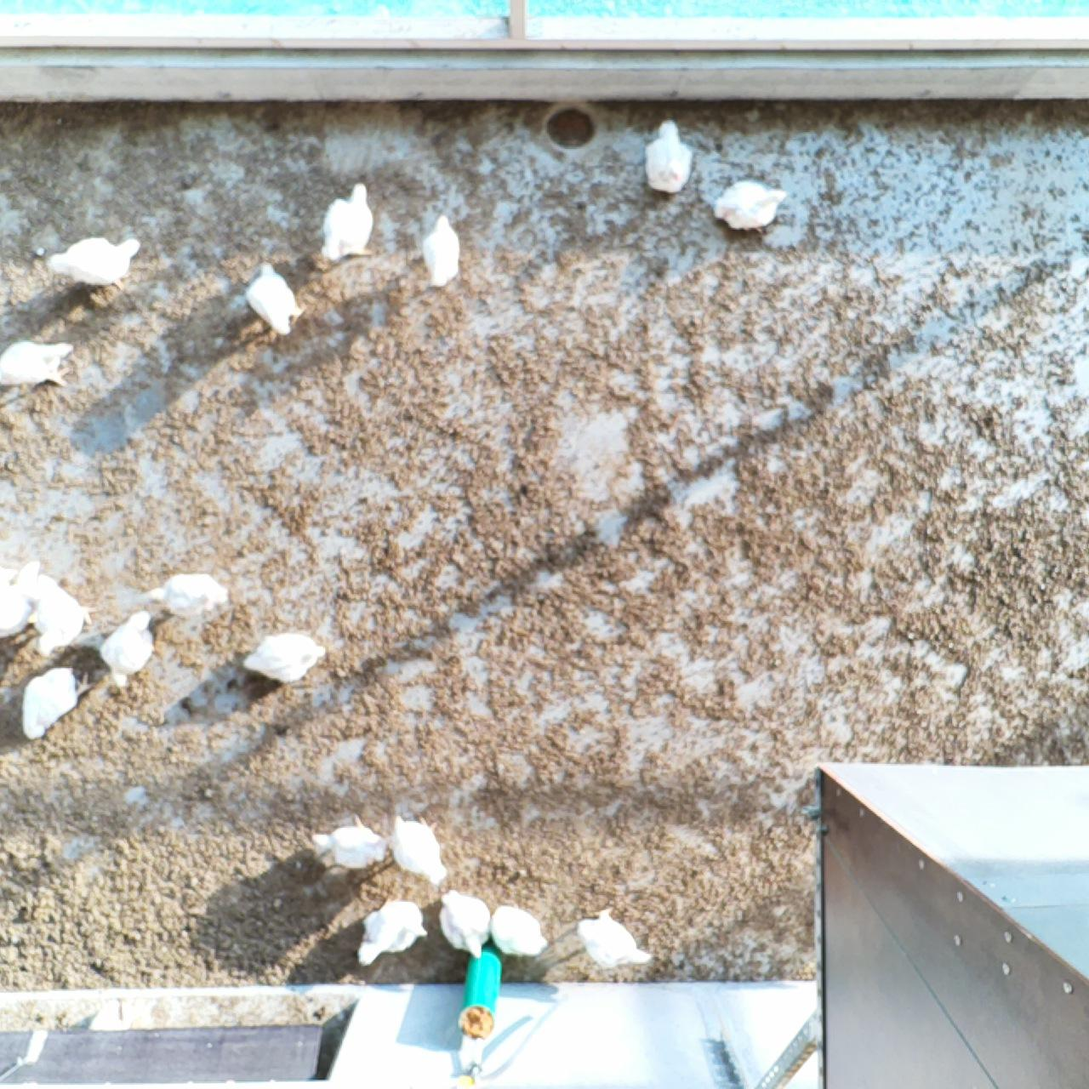chicken: (29, 574, 99, 659), (20, 663, 96, 741), (354, 896, 428, 969), (44, 234, 142, 288), (573, 908, 656, 971), (243, 257, 307, 337), (321, 179, 381, 264), (387, 811, 451, 887), (99, 608, 159, 689), (711, 175, 789, 237), (242, 630, 328, 686), (641, 118, 698, 198), (311, 813, 387, 872), (148, 568, 229, 620), (435, 889, 494, 960), (0, 338, 76, 390), (487, 901, 550, 960), (0, 559, 43, 641), (419, 211, 463, 291)
